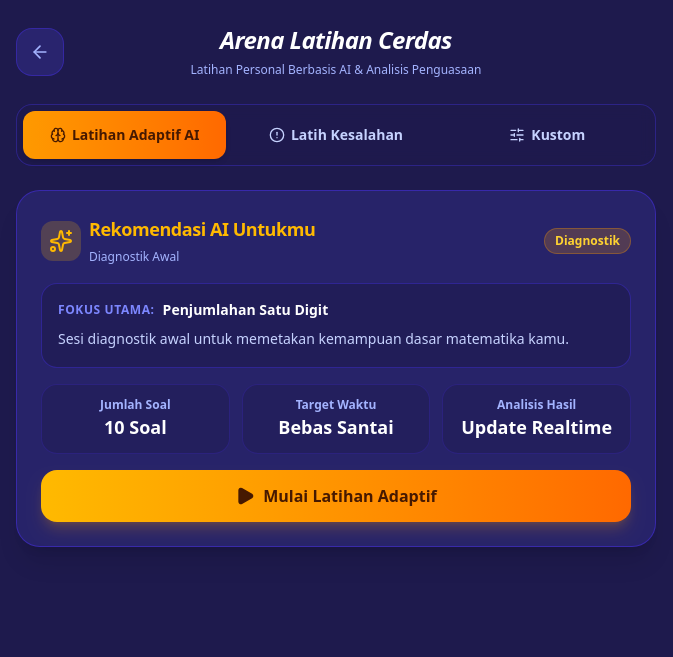
Test: PracticeScreen Orchestrator › renders PracticeHubView by default and transitions through playing and summary states
The image size is (673, 657).
Expected: the text "Latihan Adaptif AI" is shown, x1=72 y1=125 x2=200 y2=145
# Start adaptive practice
Click the button "Mulai Latihan Adaptif" at point(336, 496), box x1=41 y1=470 x2=631 y2=522
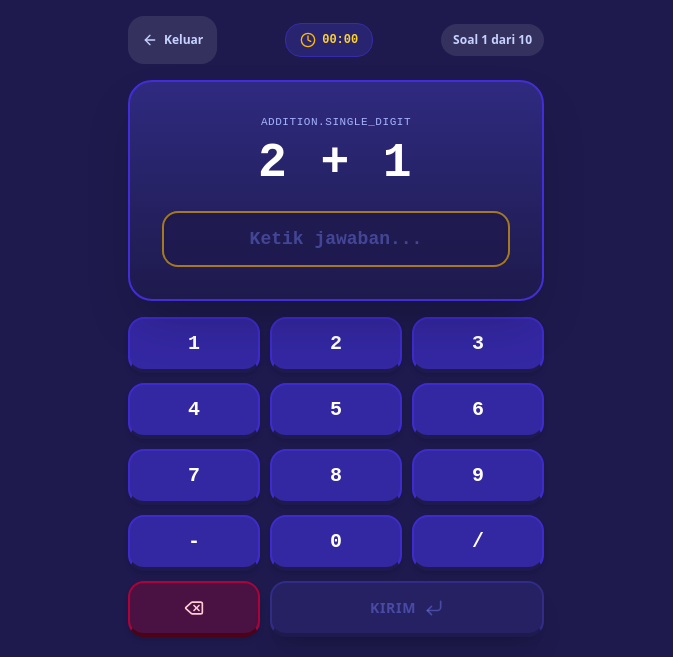
Result: the text "Soal 1 dari 10" is shown at x1=441 y1=24 x2=544 y2=56
Result: the text "Keluar" is shown at x1=164 y1=32 x2=203 y2=48
